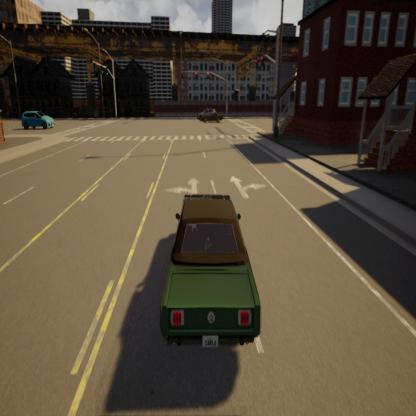Cars: (153, 182, 274, 360), (192, 87, 234, 138), (17, 107, 64, 136)
